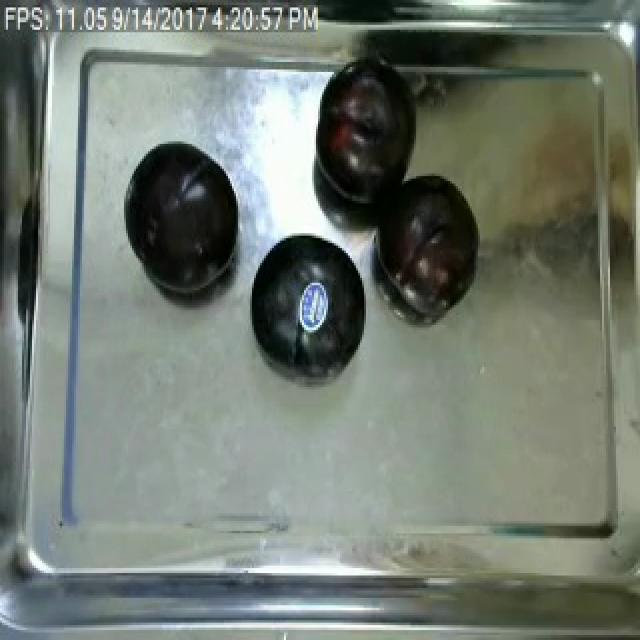Fruit: (238, 223, 374, 384), (118, 134, 248, 300), (372, 168, 488, 318), (310, 64, 418, 196)
